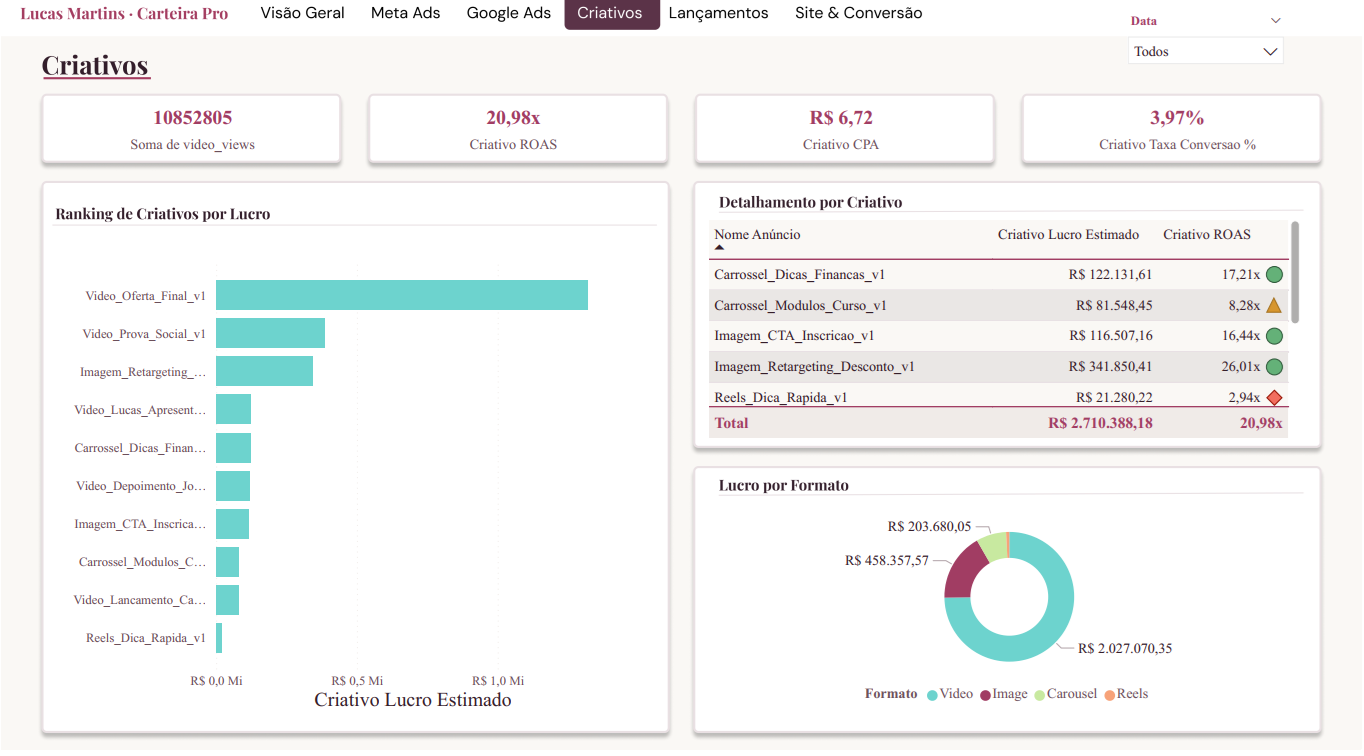

The dashboard page shown, as its layout file describes it:
{"tool":"powerbi","page":{"name":"Criativos","canvas":[1280,720],"ordinal":3},"visuals":[{"type":"card","fields":{"Values":["Sum(meta_ads_data.video_views)"]},"box":[60,98.6,240,67.1],"z":0},{"type":"card","fields":{"Values":["Medidas.Criativo ROAS"]},"box":[361.4,98.6,241.4,67.1],"z":1000},{"type":"card","fields":{"Values":["Medidas.Criativo CPA"]},"box":[670,98.6,241.4,67.1],"z":2000},{"type":"card","fields":{"Values":["Medidas.Criativo Taxa Conversao %"]},"box":[987.1,98.6,240,67.1],"z":3000},{"type":"tableEx","fields":{"Values":["meta_ads_data.ad_name","Medidas.Criativo Lucro Estimado","Medidas.Criativo ROAS"]},"box":[660,215.7,567.1,215.7],"z":4000},{"type":"donutChart","fields":{"Category":["meta_ads_data.ad_format"],"Y":["Medidas.Criativo Lucro Estimado"]},"box":[670,492.9,557.1,194.3],"z":5000},{"type":"clusteredBarChart","fields":{"Category":["meta_ads_data.ad_name"],"Y":["Medidas.Criativo Lucro Estimado"]},"box":[51.4,250,551.4,437.1],"z":6000},{"type":"actionButton","box":[241.7,4.9,87.1,40.5],"z":7000},{"type":"actionButton","box":[328.8,4.9,99.4,40.5],"z":8000},{"type":"actionButton","box":[428.2,4.9,99.4,40.5],"z":9000},{"type":"actionButton","box":[624.5,4.9,106.7,40.5],"z":10000},{"type":"actionButton","box":[742.3,6.1,128.8,40.5],"z":11000},{"type":"slicer","fields":{"Values":["Calendário.Date.Variation.Hierarquia de datas.Ano","Calendário.Date.Variation.Hierarquia de datas.Mês"]},"box":[1050.3,20.9,166.9,55.2],"z":12000}]}

Visuals, with their boxes in screenshot pixels (x1, y1, x2, y2), scaled from the page's 1280x720 canvas onto the 1364x756 screenshot:
card - Sum(meta_ads_data.video_views): l=64, t=104, r=320, b=174
card - Medidas.Criativo ROAS: l=385, t=104, r=642, b=174
card - Medidas.Criativo CPA: l=714, t=104, r=971, b=174
card - Medidas.Criativo Taxa Conversao %: l=1052, t=104, r=1308, b=174
tableEx - meta_ads_data.ad_name x Medidas.Criativo Lucro Estimado: l=703, t=226, r=1308, b=453
donutChart - meta_ads_data.ad_format x Medidas.Criativo Lucro Estimado: l=714, t=518, r=1308, b=722
clusteredBarChart - meta_ads_data.ad_name x Medidas.Criativo Lucro Estimado: l=55, t=262, r=642, b=721
actionButton: l=258, t=5, r=350, b=48
actionButton: l=350, t=5, r=456, b=48
actionButton: l=456, t=5, r=562, b=48
actionButton: l=665, t=5, r=779, b=48
actionButton: l=791, t=6, r=928, b=49
slicer - Calendário.Date.Variation.Hierarquia de datas.Ano x Calendário.Date.Variation.Hierarquia de datas.Mês: l=1119, t=22, r=1297, b=80
